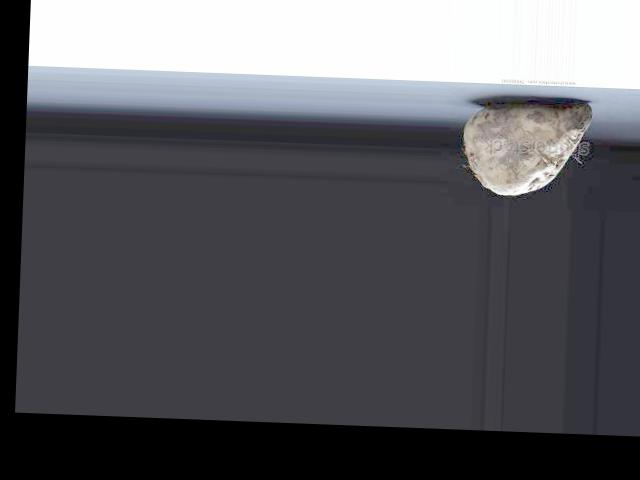beet: (459, 98, 590, 197)
